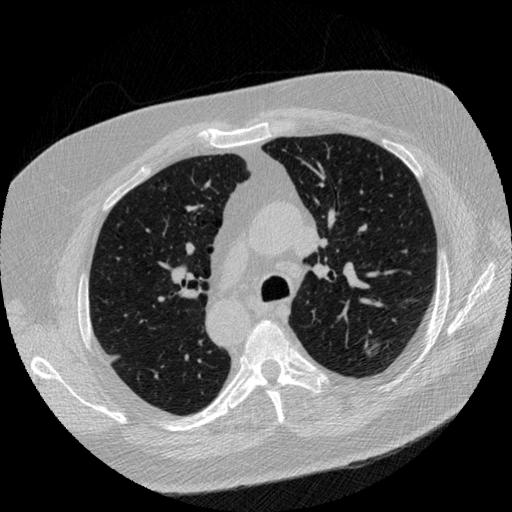nodule: (362, 335, 387, 360)
